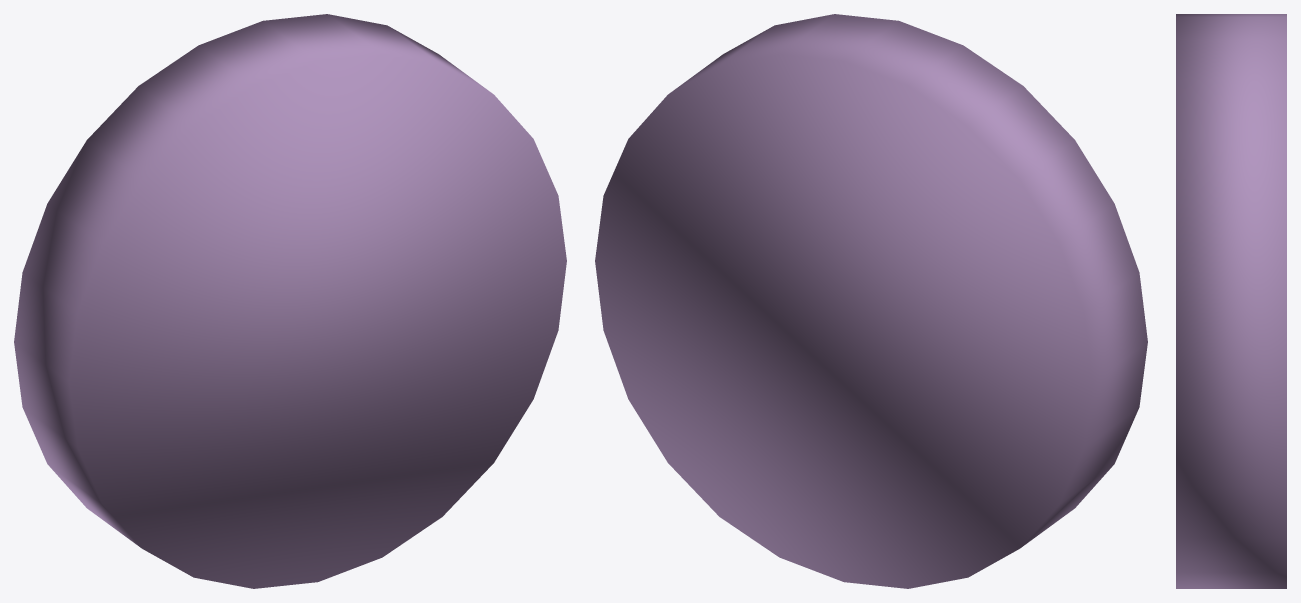
Rendered from shape-circle-purple.glb.
3 renders of one model, left to right at view 1: azimuth 30°, elevation 25°; view 2: azimuth 150°, elevation 25°; view 3: azimuth 270°, elevation 25°, orthographic.
Parts seen in each view (by area): view 1: solid circle; view 2: solid circle; view 3: solid circle.
Part boxes in pixels (bbox=[...]): solid circle: bbox=[14, 14, 566, 588]; solid circle: bbox=[595, 14, 1147, 588]; solid circle: bbox=[1176, 14, 1286, 588].
Bounding box in the file's own units: 1.3 × 1.3 × 0.25.
